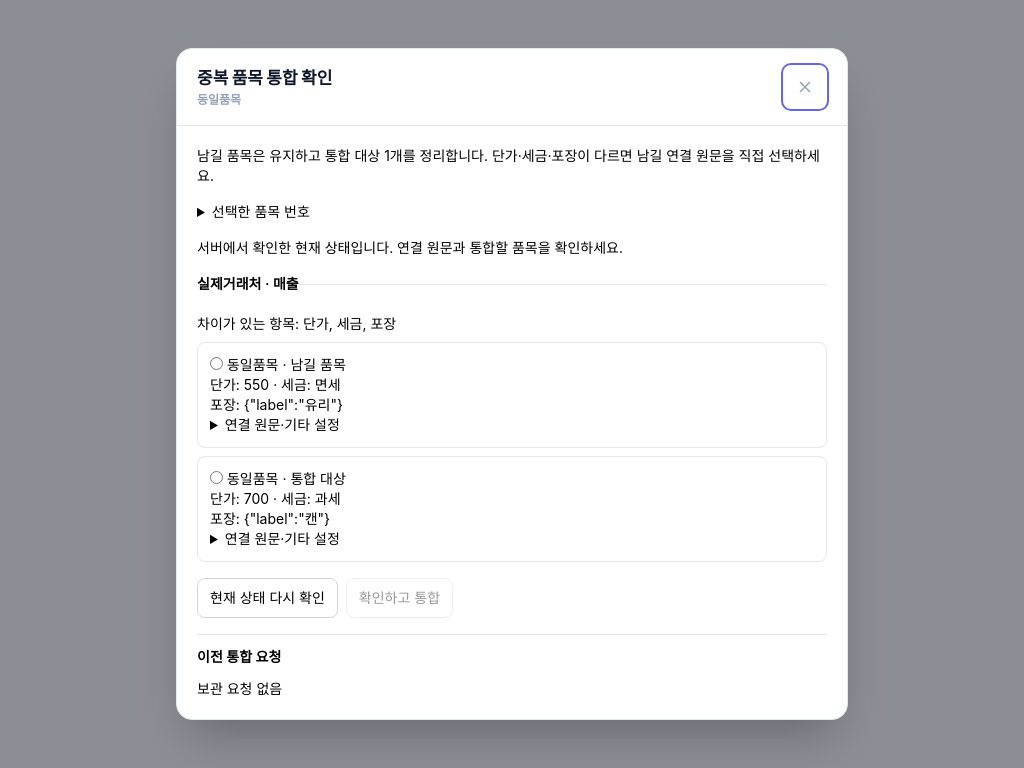
it: apply응답유실은선택을유지하고중복클릭송신0
Expected: the text "차이가 있는 항목: 단가, 세금, 포장" is shown, [197,315,396,332]
Click the radio button with aria-label "남길 연결 a".
click(216, 364)  # box [210,357,223,370]
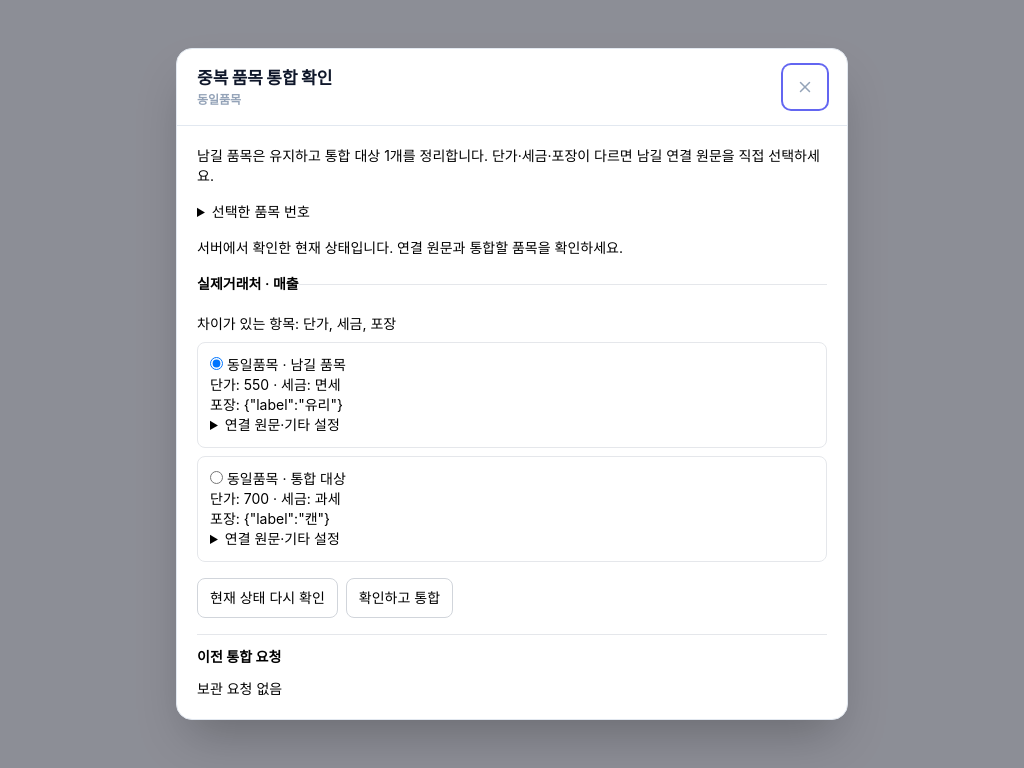
Click the button "확인하고 통합".
click(400, 598)  # box [346,578,453,618]
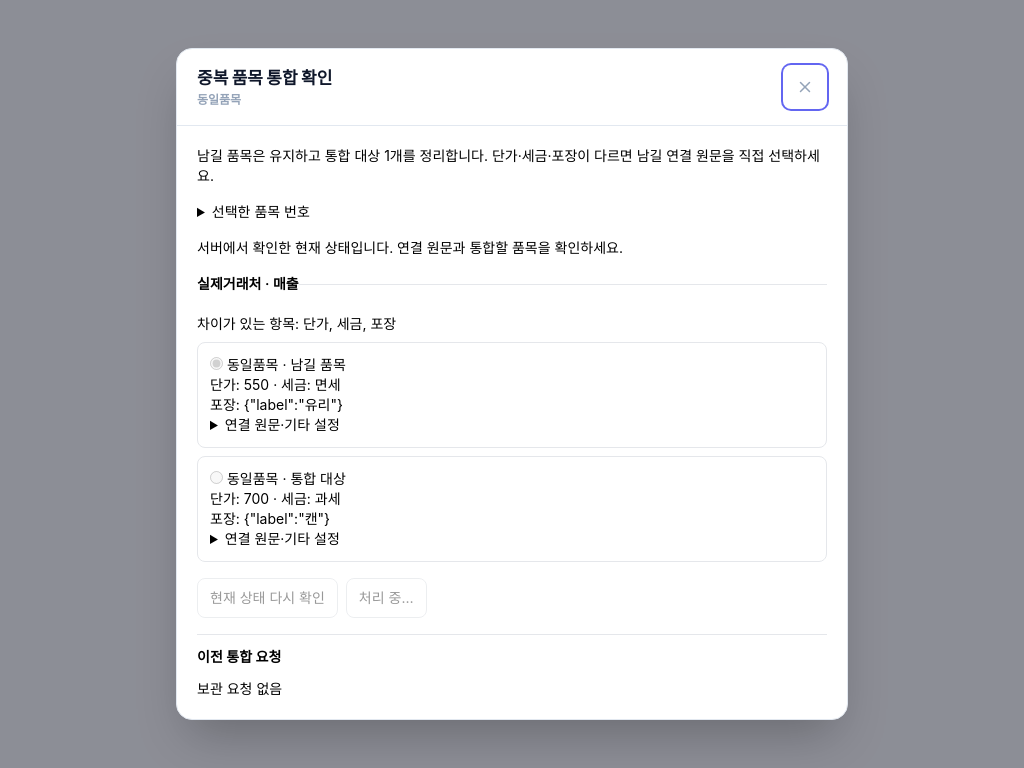
Click the button named "확인하고 통합".
click(386, 598)  # box [346,578,427,618]
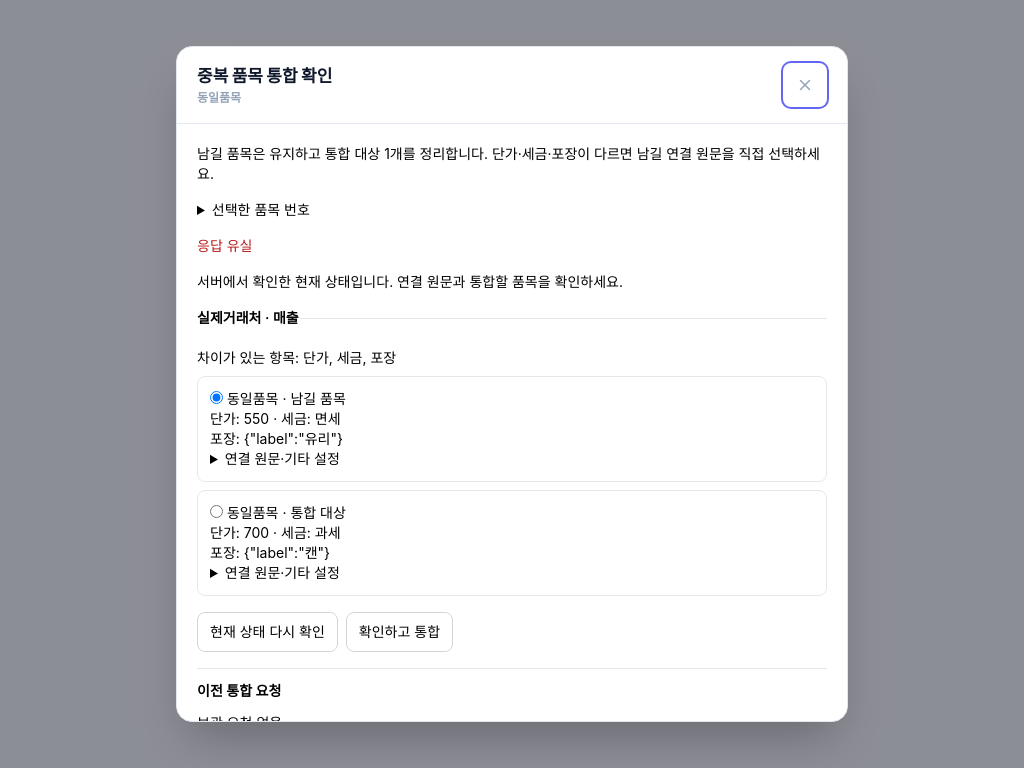
Result: the radio button with aria-label "남길 연결 a" is checked at [210,391,223,404]
Result: the message "응답 유실" is shown at [197,237,252,254]
